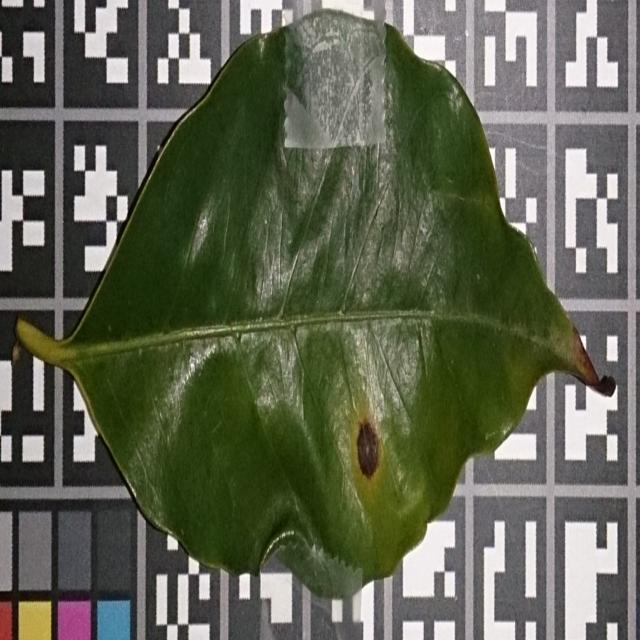Enfermedad-Mancha-de-hierro: (14, 11, 612, 603)
